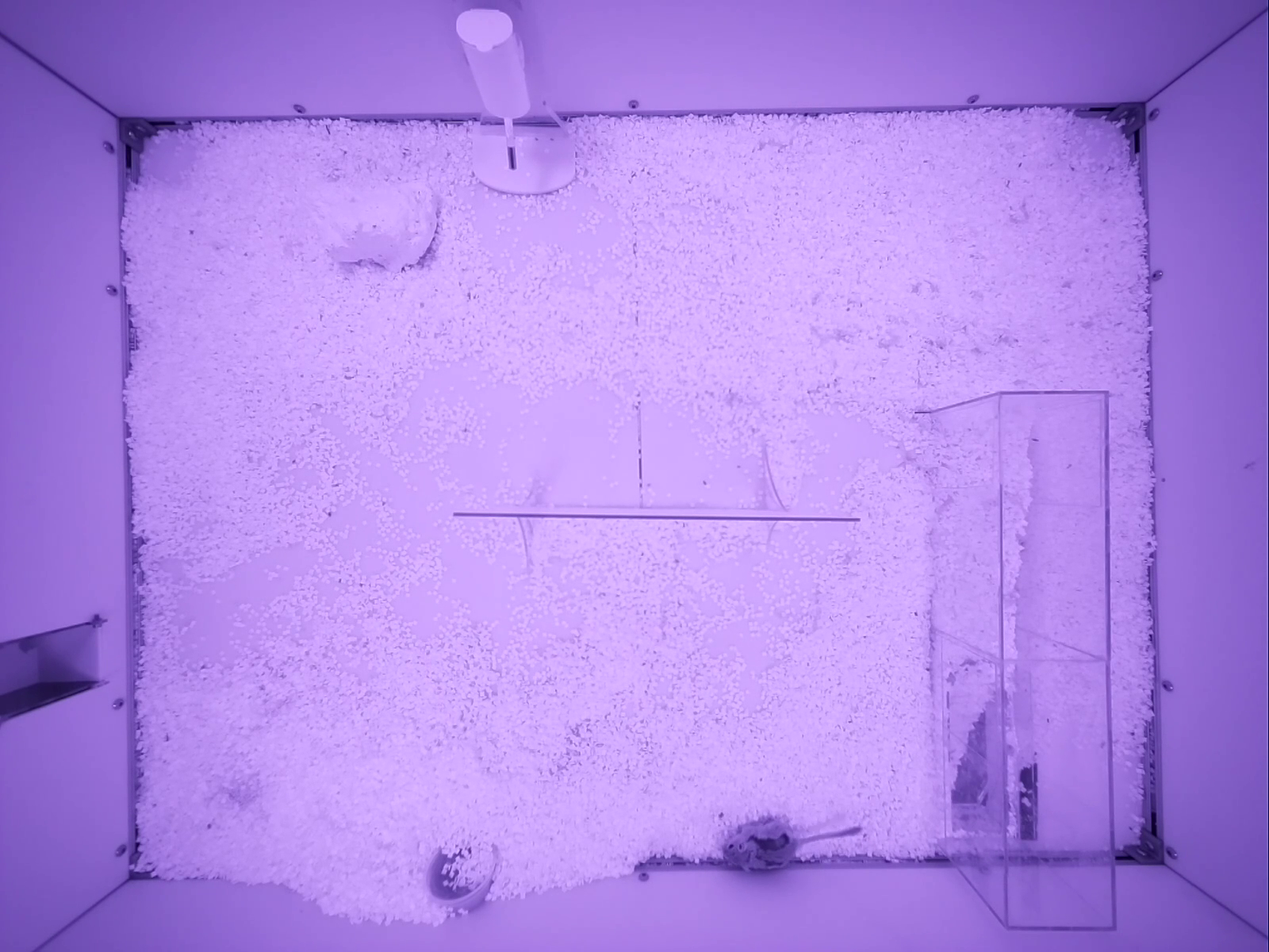adult_back: (722, 817, 858, 871)
